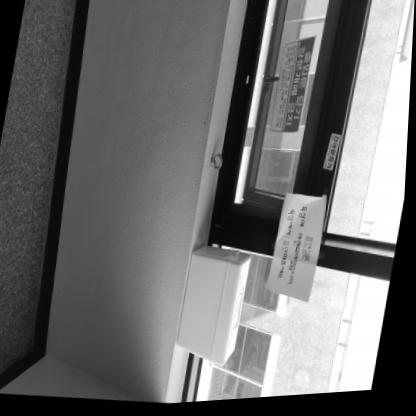DDL: (175, 243, 255, 374)
